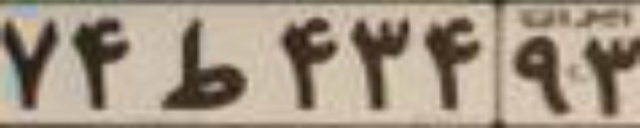3: (350, 17, 411, 111), (582, 36, 639, 116)
4: (422, 15, 484, 110), (281, 17, 340, 110), (73, 16, 131, 109)
7: (0, 16, 71, 108)
9: (510, 35, 568, 114)
taa: (157, 15, 247, 111)
